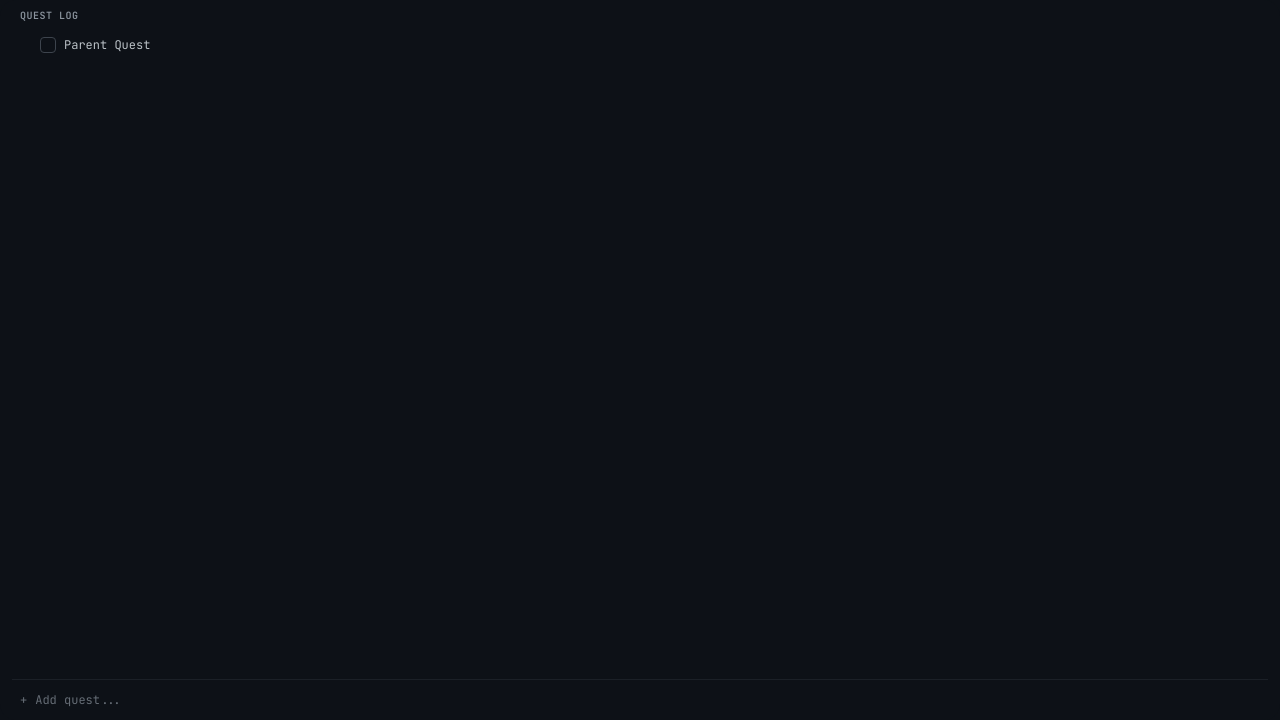
Test case: QuestLog Keyboard Shortcuts › Tab (Toggle Sub-Quest Mode) › toggles to sub-quest mode when pressing Tab with empty input
Click to open add quest input
Click the button "+ Add quest..." at (78, 700), box [20, 688, 1260, 712]
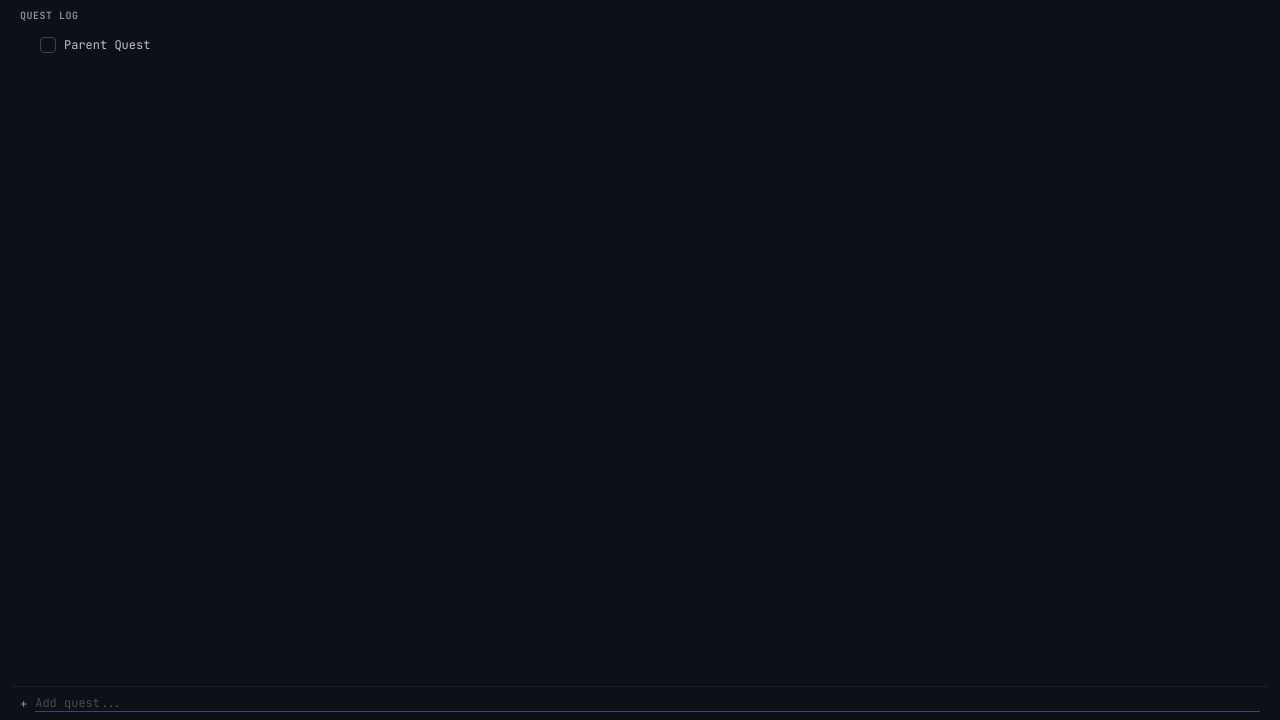
Expected: the field with placeholder "Add quest..." is shown
Press Tab with empty input
Press Tab in the field with placeholder "Add quest...", box [35, 695, 1260, 712]
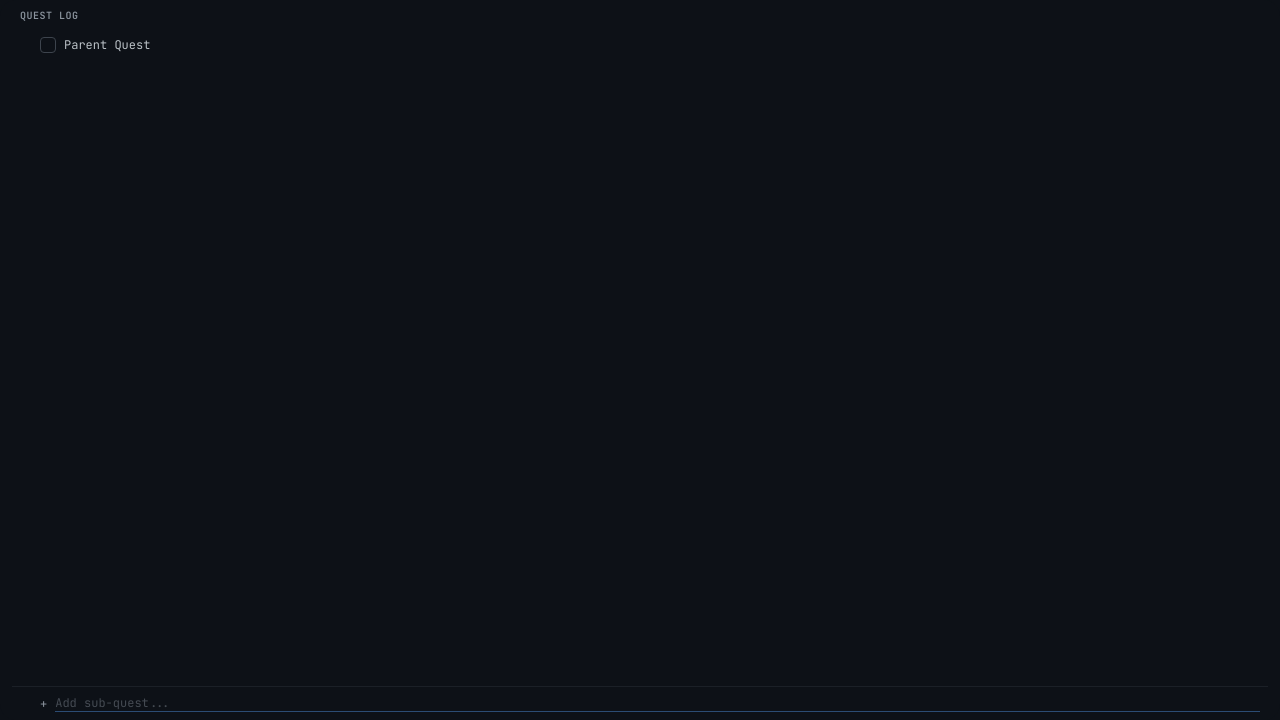
Expected: the field with placeholder "Add sub-quest..." is shown, [55, 695, 1260, 712]
